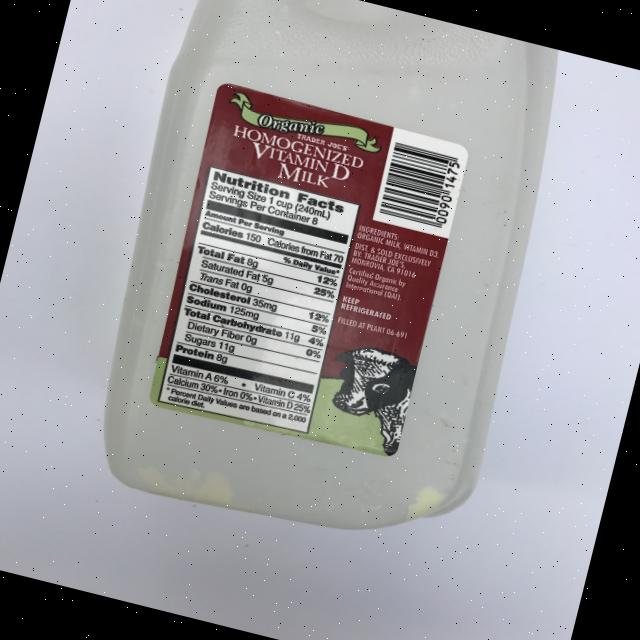plastic: (68, 0, 583, 569)
